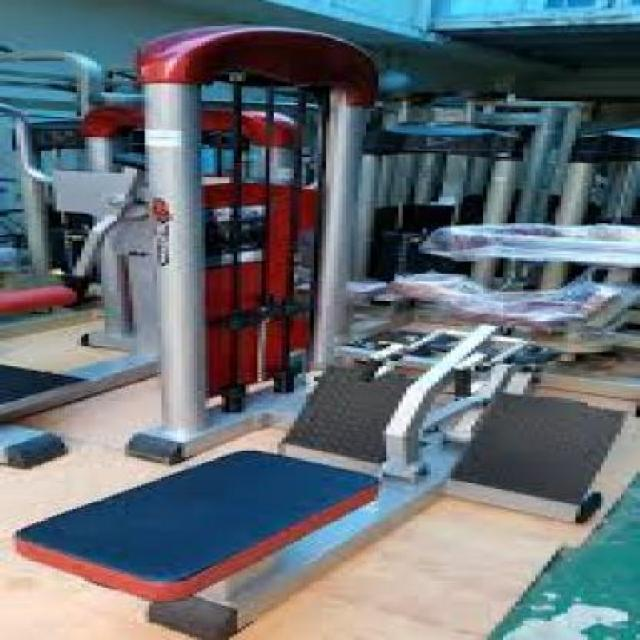Seated Cable Rows: (0, 12, 632, 639)
